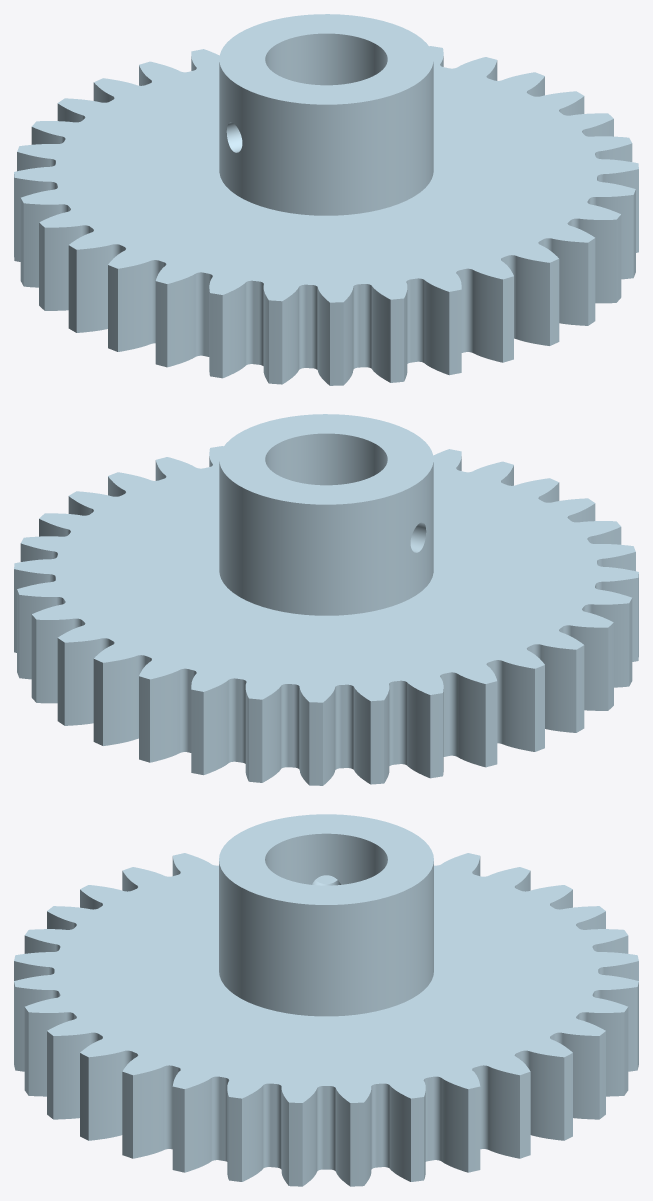
The model's file is TriangleGearLarge.gltf.
3 views of the same model, one above another, from view 1: azimuth 30°, elevation 25°; view 2: azimuth 150°, elevation 25°; view 3: azimuth 270°, elevation 25° (orthographic).
Visible parts, largest first — view 1: Spur gear (32 teeth); view 2: Spur gear (32 teeth); view 3: Spur gear (32 teeth).
Part boxes in pixels (left/top/right/bottom): Spur gear (32 teeth): left=14, top=14, right=638, bottom=385; Spur gear (32 teeth): left=14, top=414, right=638, bottom=785; Spur gear (32 teeth): left=14, top=814, right=638, bottom=1186.
Size of the model in its own units: 0.1017 by 0.035 by 0.1017.
